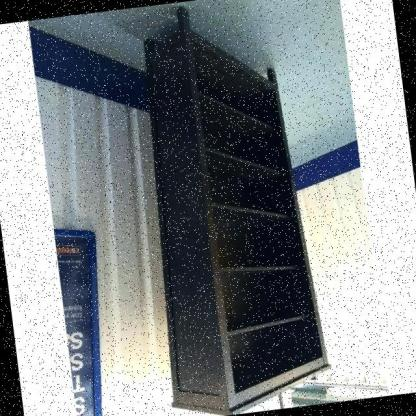Shelf: (114, 0, 338, 416)
